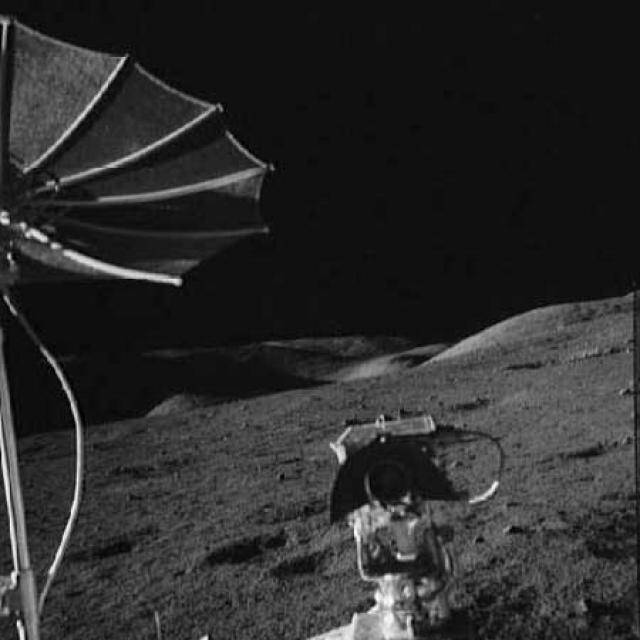artifact: (0, 17, 293, 304), (305, 388, 515, 639), (0, 288, 108, 639)
crater: (64, 528, 175, 570), (272, 540, 373, 580), (209, 529, 293, 558), (566, 435, 639, 461)
